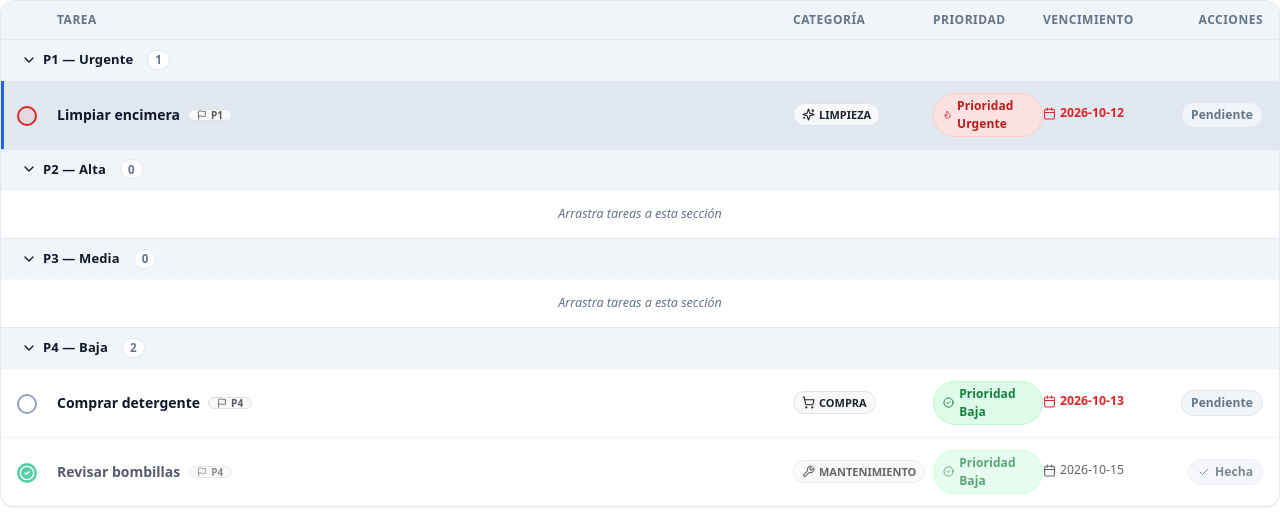
Test: TaskListView & FilterBar — Agrupación Dinámica, Secciones Colapsables, Drag & Drop y Teclado › renderiza cabeceras de sección colapsables, muestra contadores y alterna aria-expanded al hacer clic
This screenshot has width=1280, height=524.
Expected: the element with test id "task-group-header-priority-p1" is shown, top-left (1, 40), bottom-right (1279, 80)
Expected: the text with test id "task-group-count-priority-p1" reads "1", top-left (155, 52), bottom-right (162, 67)
Click the button with test id "task-group-toggle-priority-p1": (77, 60) top-left (15, 48), bottom-right (139, 72)
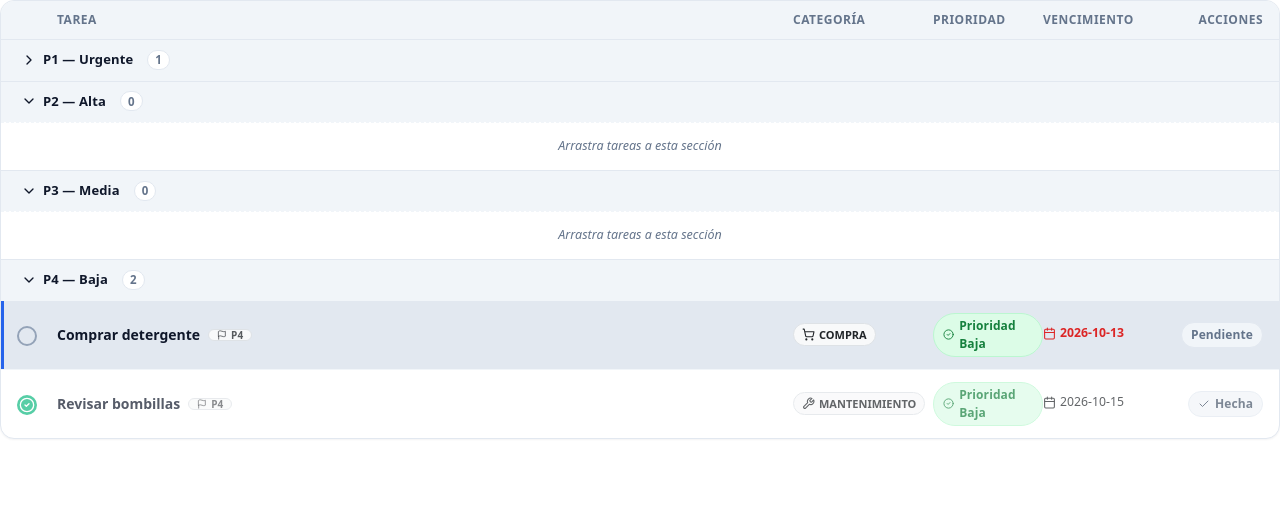
Expected: the button with test id "task-group-toggle-priority-p1" is collapsed
Expected: the row with test id "task-item-task-1" is gone
Click the button with test id "task-group-toggle-priority-p1": (77, 60) top-left (15, 48), bottom-right (139, 72)
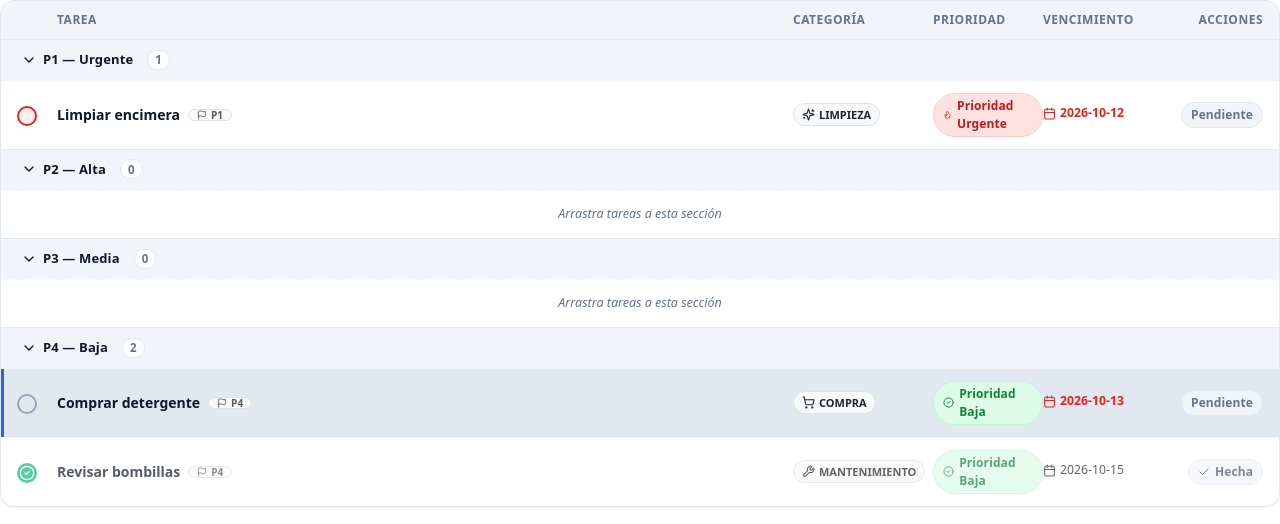
Expected: the button with test id "task-group-toggle-priority-p1" is expanded, top-left (15, 48), bottom-right (139, 72)
Expected: the row with test id "task-item-task-1" is shown, top-left (1, 80), bottom-right (1279, 148)
